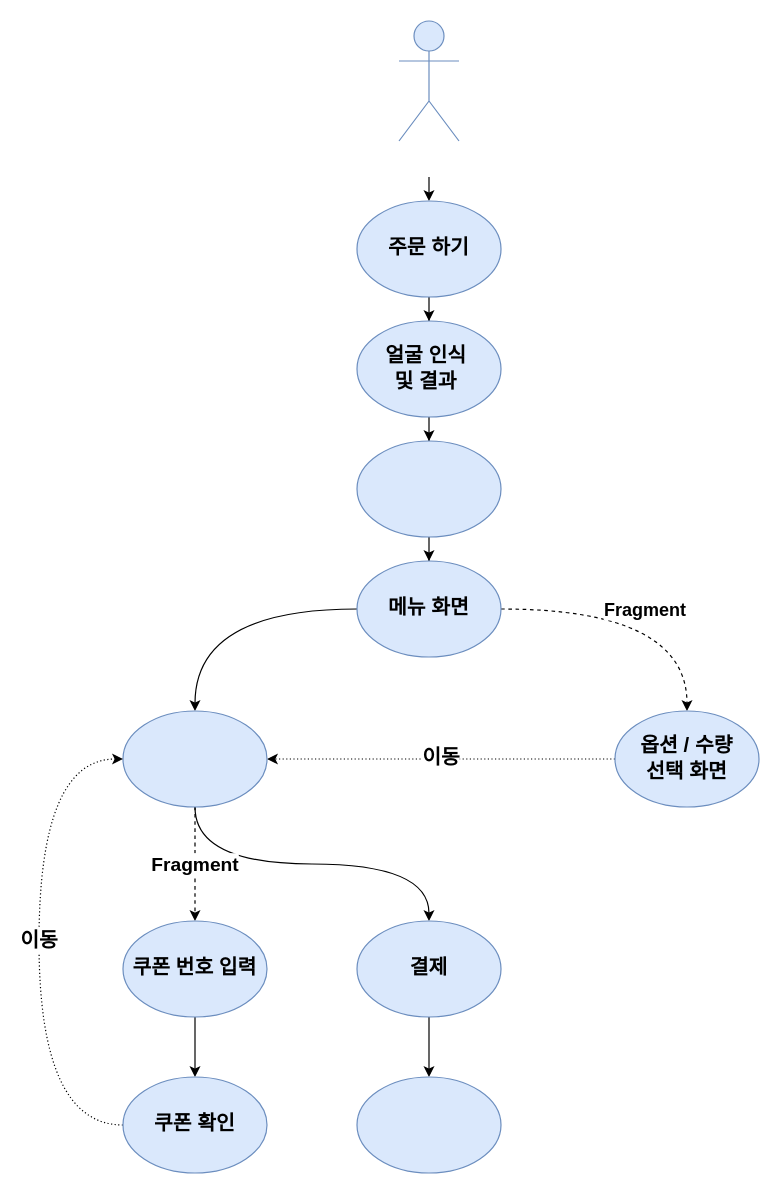
Some shapes in this 780 by 1194 pixel diagram are drawn without their labels. The box of each missing label's shape, as (x1, y1, x2, y2) in pixels:
Customer: (398, 20, 459, 141)
장바구니: (122, 710, 267, 807)
주문 번호 발행 및 결제 완료: (356, 1076, 501, 1173)
포장하기 먹고가기: (356, 440, 501, 537)
